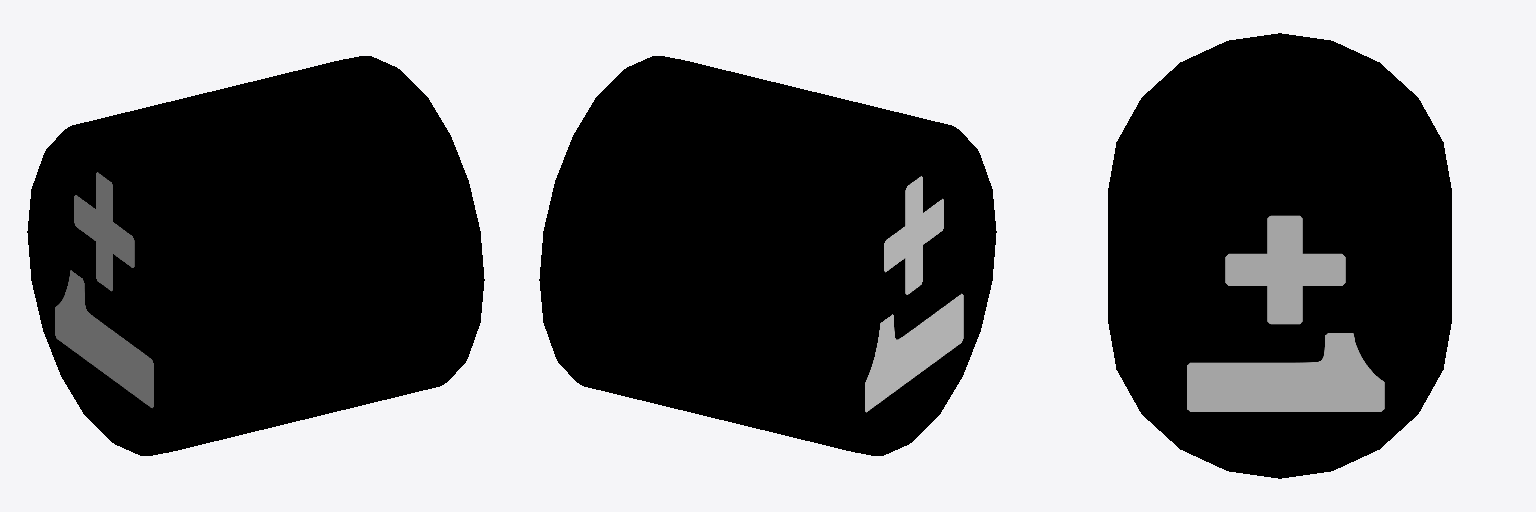
The picture shows the model from 3 angles: view 1: azimuth 30°, elevation 25°; view 2: azimuth 150°, elevation 25°; view 3: azimuth 270°, elevation 25°; orthographic projection.
Visible parts, largest first — view 1: default; view 2: default; view 3: default.
Part boxes in pixels (x1,y1,x2,y2): default: (27, 56, 484, 455); default: (539, 56, 996, 455); default: (1108, 33, 1451, 478).
Bounding box in the file's own units: 1 × 1 × 1.
Materials: 1 (1 with a texture image).